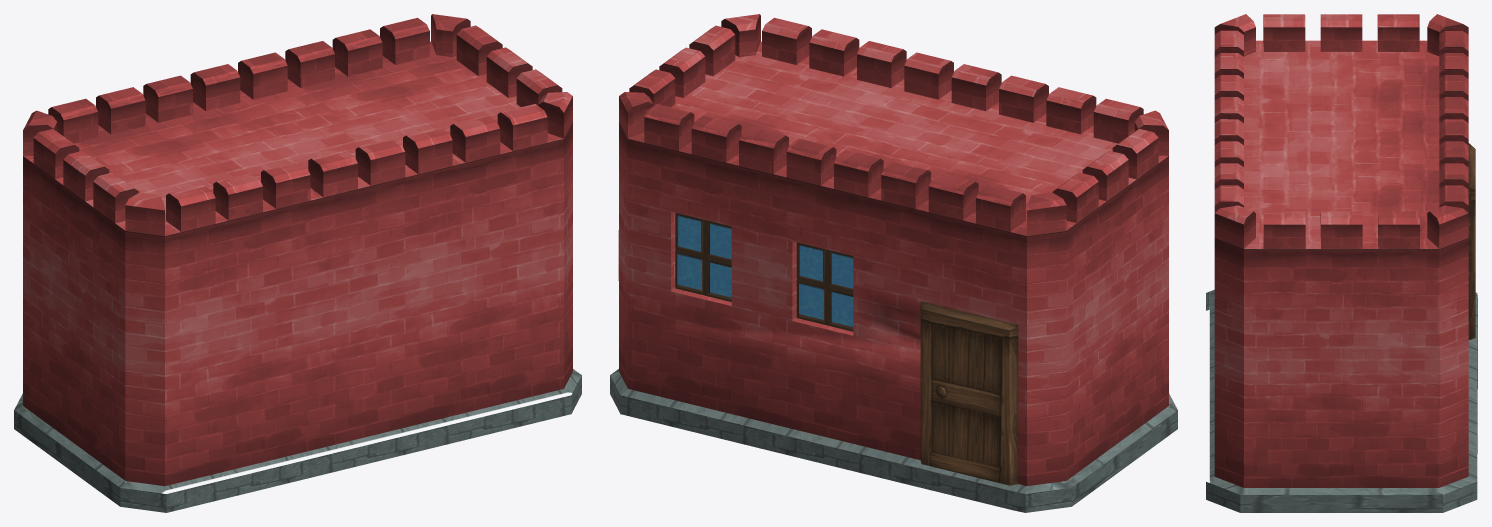
Rendered from NewStationVer2.FBX.
The picture shows the model from 3 angles, left to right: view 1: azimuth 30°, elevation 25°; view 2: azimuth 150°, elevation 25°; view 3: azimuth 270°, elevation 25°; orthographic projection. The views are drawn at different scales.
Parts seen in each view (by area): view 1: Z-axix Adjust; view 2: Z-axix Adjust; view 3: Z-axix Adjust.
Part boxes in pixels (bbox=[...]): Z-axix Adjust: bbox=[14, 14, 581, 512]; Z-axix Adjust: bbox=[610, 14, 1177, 512]; Z-axix Adjust: bbox=[1206, 14, 1477, 512].
Bounding box in the file's own units: 436 × 273 × 233.
1 material, 1 textured.
